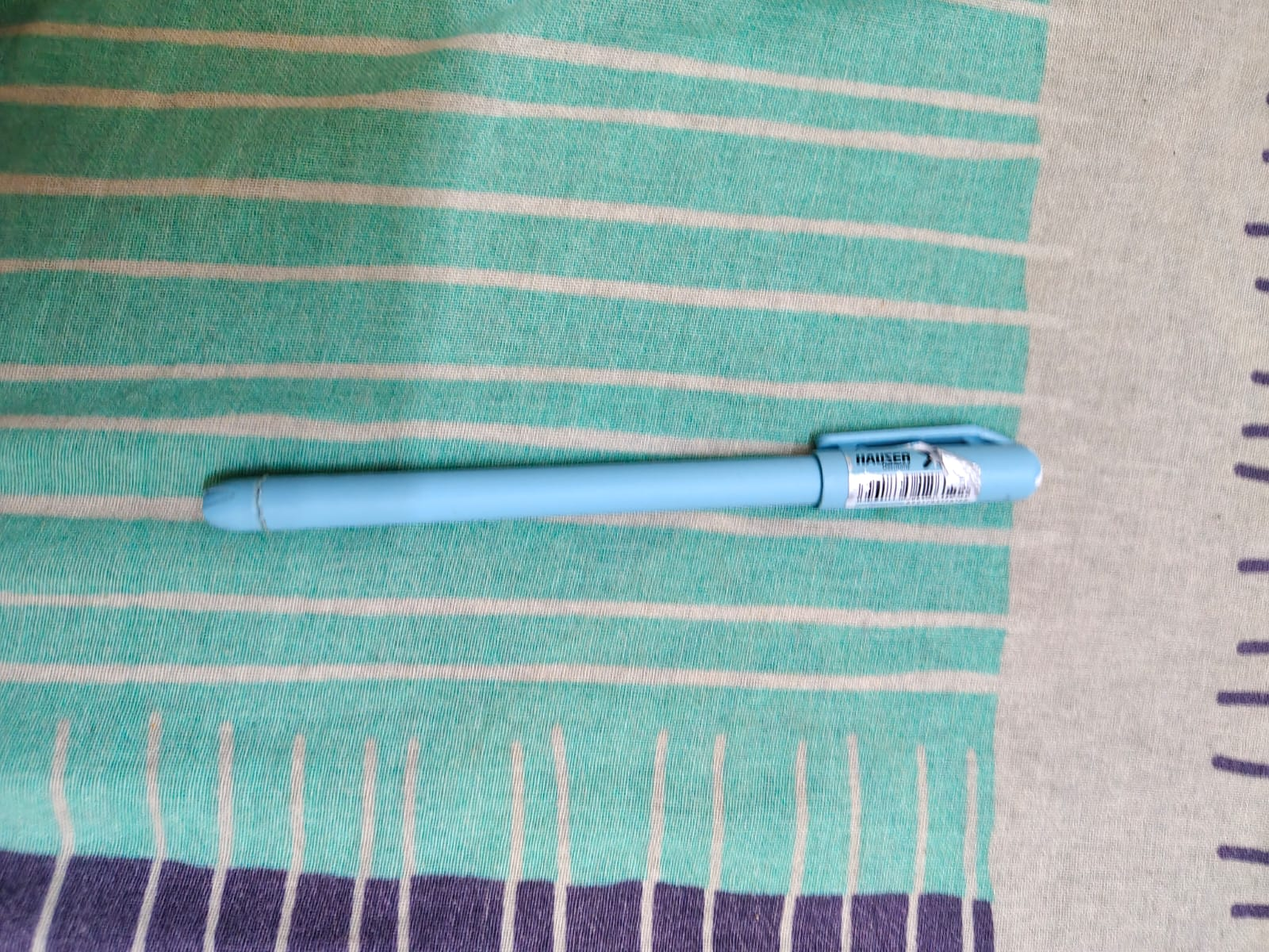pen: (177, 397, 1040, 579)
